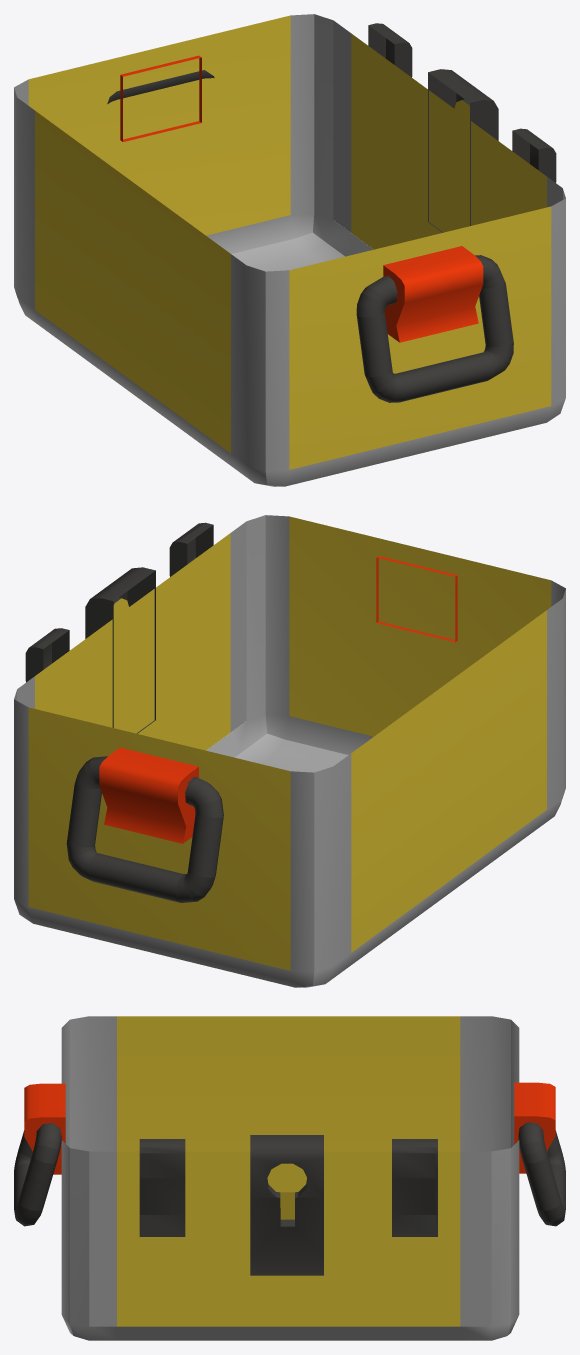
File: box_coin.fbx
The picture shows the model from 3 angles, top to bottom: view 1: azimuth 30°, elevation 25°; view 2: azimuth 150°, elevation 25°; view 3: azimuth 270°, elevation 25°; orthographic projection. The views are drawn at different scales.
Parts seen in each view (by area): view 1: polySurface159; view 2: polySurface159; view 3: polySurface159.
Part boxes in pixels (left/top/right/bottom): polySurface159: left=14, top=14, right=565, bottom=486; polySurface159: left=14, top=515, right=565, bottom=987; polySurface159: left=14, top=1016, right=565, bottom=1340.
Bounding box in the file's own units: 139 × 95.42 × 221.
